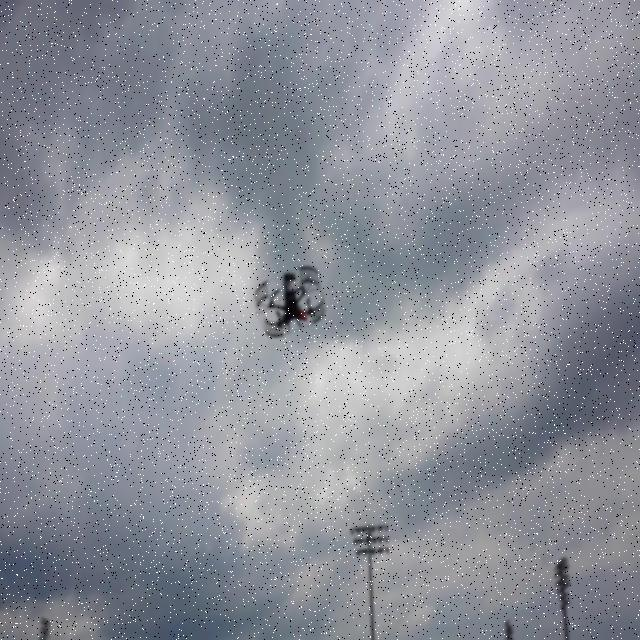UAV: (254, 266, 326, 338)
